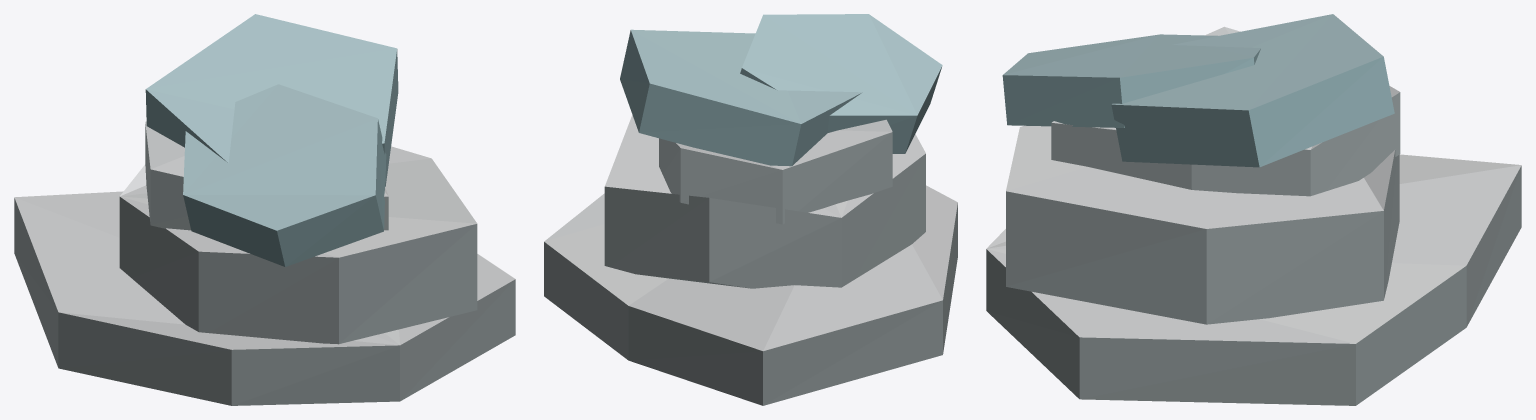
File: rock.floe__outcrop__spring.glb
3 renders of one model, left to right at view 1: azimuth 30°, elevation 25°; view 2: azimuth 150°, elevation 25°; view 3: azimuth 270°, elevation 25°, orthographic. The views are drawn at different scales.
Visible parts, largest first — view 1: rock.floe; view 2: rock.floe; view 3: rock.floe.
Part boxes in pixels (left/top/right/bottom): rock.floe: left=14, top=14, right=515, bottom=405; rock.floe: left=544, top=14, right=957, bottom=405; rock.floe: left=986, top=14, right=1521, bottom=405.
Size of the model in its own units: 1.83 by 1.21 by 2.06.
